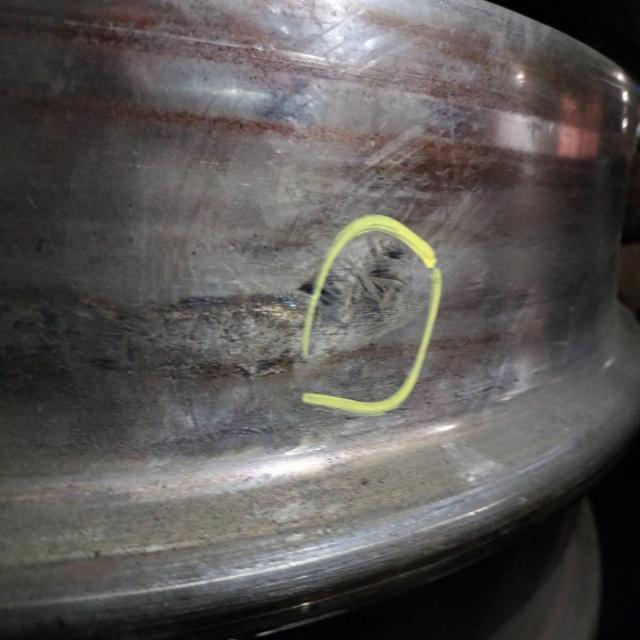Rollerpile: (328, 248, 419, 344)
